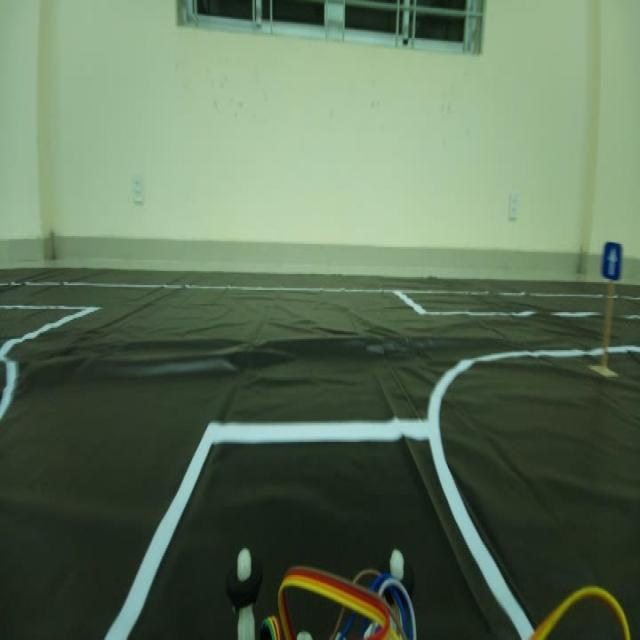onewayroad: (597, 227, 623, 283)
